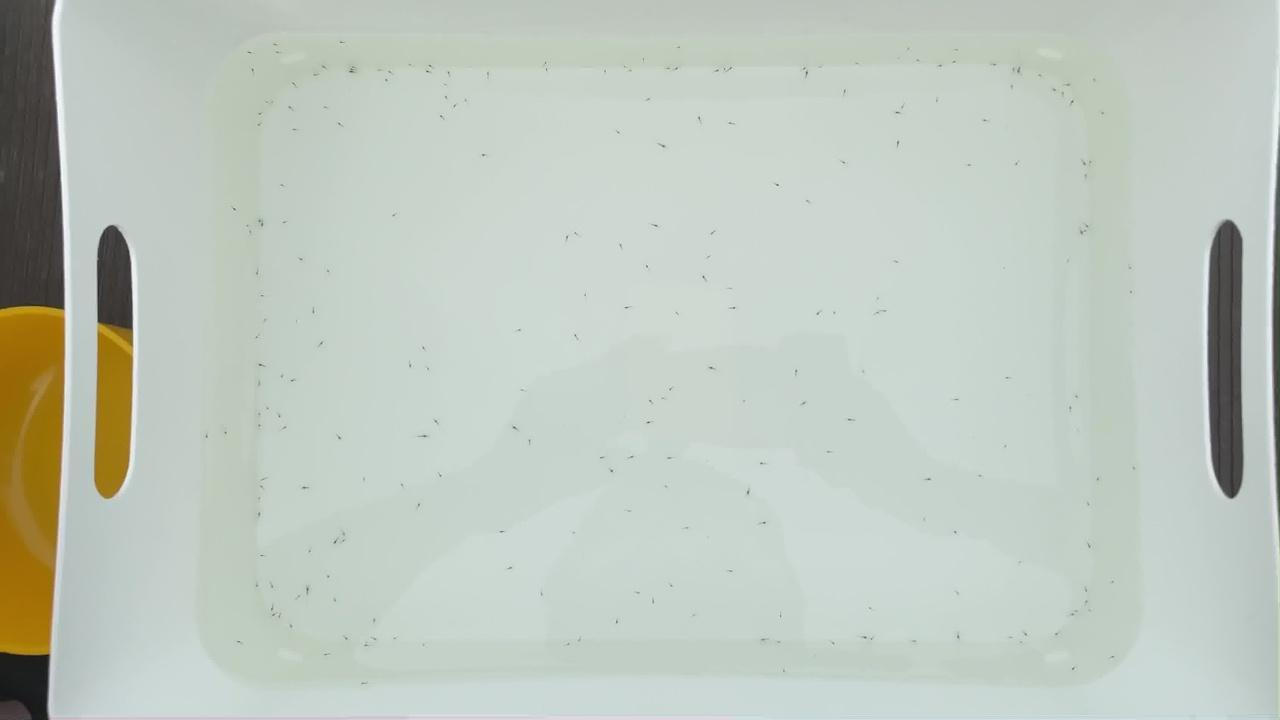shrimp: (1082, 218, 1095, 226), (1125, 295, 1138, 303), (1063, 406, 1076, 414), (1083, 512, 1096, 520), (1082, 583, 1095, 591), (1079, 594, 1092, 602), (951, 589, 964, 597), (776, 667, 789, 675), (760, 634, 773, 642), (976, 118, 989, 126), (945, 58, 958, 66), (852, 58, 865, 66), (729, 118, 742, 126), (674, 63, 687, 71), (601, 68, 614, 76), (539, 68, 552, 76), (611, 124, 624, 132), (440, 91, 453, 99), (345, 63, 358, 71), (247, 63, 260, 71), (267, 96, 280, 104), (723, 307, 736, 315), (723, 284, 736, 292), (308, 306, 321, 314), (333, 434, 346, 442), (268, 611, 281, 619), (302, 584, 315, 592), (325, 595, 338, 603), (371, 633, 384, 641), (385, 628, 398, 636), (435, 473, 448, 481), (430, 417, 443, 425), (537, 589, 550, 597), (665, 584, 678, 592), (605, 467, 618, 475), (824, 451, 837, 459), (842, 417, 855, 425), (871, 295, 884, 303), (1066, 96, 1078, 104), (1005, 63, 1017, 71), (573, 229, 585, 237), (452, 102, 464, 110), (347, 69, 359, 77), (579, 290, 591, 298), (252, 578, 264, 586), (418, 429, 430, 437), (419, 340, 431, 348), (563, 639, 575, 647), (1074, 229, 1087, 236), (1126, 268, 1139, 275), (1128, 467, 1141, 474), (1082, 542, 1095, 549), (1084, 604, 1097, 611), (1106, 579, 1119, 586), (1073, 608, 1086, 615), (1067, 612, 1080, 619), (1105, 655, 1118, 662), (1020, 629, 1033, 636), (1013, 561, 1026, 568), (952, 631, 965, 638), (866, 633, 879, 640), (858, 635, 871, 642), (826, 642, 839, 649), (770, 642, 783, 649), (775, 613, 788, 620), (866, 603, 879, 610), (920, 517, 933, 524), (920, 477, 933, 484), (1001, 439, 1014, 446), (950, 396, 963, 403), (1084, 159, 1097, 166), (1079, 153, 1092, 160), (1082, 146, 1095, 153), (1096, 108, 1109, 115), (1091, 78, 1104, 85), (1061, 78, 1074, 85), (1057, 90, 1070, 97), (1046, 83, 1059, 90), (1034, 70, 1047, 77), (1015, 68, 1028, 75), (1006, 78, 1019, 85), (987, 60, 1000, 67), (960, 160, 973, 167), (1013, 159, 1026, 166), (892, 139, 905, 146), (897, 101, 910, 108), (938, 60, 951, 67), (950, 48, 963, 55), (909, 57, 922, 64), (901, 46, 914, 53), (838, 90, 851, 97), (836, 154, 849, 161), (812, 63, 825, 70), (802, 71, 815, 78), (798, 63, 811, 70), (772, 176, 785, 183), (801, 197, 814, 204), (691, 115, 704, 122), (708, 67, 721, 74), (715, 64, 728, 71), (723, 64, 736, 71), (661, 68, 674, 75), (651, 46, 664, 53), (637, 57, 650, 64), (625, 63, 638, 70), (481, 70, 494, 77), (638, 93, 651, 100), (654, 138, 667, 145), (649, 218, 662, 225), (616, 242, 629, 249), (560, 236, 573, 243), (462, 97, 475, 104), (436, 112, 449, 119), (443, 71, 456, 78), (425, 63, 438, 70), (424, 71, 437, 78), (404, 60, 417, 67), (385, 71, 398, 78), (374, 68, 387, 75), (337, 39, 350, 46), (317, 64, 330, 71), (305, 73, 318, 80), (273, 47, 286, 54), (268, 40, 281, 47), (245, 49, 258, 56), (293, 40, 306, 47), (288, 78, 301, 85), (286, 104, 299, 111), (255, 109, 268, 116), (253, 121, 266, 128), (287, 126, 300, 133), (339, 124, 352, 131), (321, 105, 334, 112), (701, 254, 714, 261), (642, 263, 655, 270), (621, 301, 634, 308), (671, 312, 684, 319), (568, 333, 581, 340), (387, 214, 400, 221), (275, 181, 288, 188), (258, 221, 271, 228), (251, 214, 264, 221), (244, 229, 257, 236), (238, 221, 251, 228), (277, 221, 290, 228), (255, 297, 268, 304), (259, 316, 272, 323), (293, 256, 306, 263), (316, 337, 329, 344), (290, 377, 303, 384), (275, 374, 288, 381), (249, 381, 262, 388), (262, 402, 275, 409), (250, 411, 263, 418), (278, 423, 291, 430), (217, 428, 230, 435), (199, 435, 212, 442), (258, 475, 271, 482), (258, 487, 271, 494), (253, 497, 266, 504), (253, 509, 266, 516), (297, 487, 310, 494), (339, 539, 352, 546), (303, 549, 316, 556), (255, 552, 268, 559), (267, 582, 280, 589), (228, 642, 241, 649), (292, 589, 305, 596), (321, 651, 334, 658), (361, 642, 374, 649), (368, 613, 381, 620), (416, 642, 429, 649), (413, 504, 426, 511), (400, 476, 413, 483), (422, 365, 435, 372), (406, 358, 419, 365), (516, 391, 529, 398), (511, 425, 524, 432), (496, 528, 509, 535), (503, 563, 516, 570), (574, 636, 587, 643), (610, 615, 623, 622), (632, 588, 645, 595), (646, 598, 659, 605), (723, 570, 736, 577), (678, 524, 691, 531), (620, 509, 633, 516), (596, 456, 609, 463), (627, 453, 640, 460), (667, 453, 680, 460), (662, 396, 675, 403), (665, 386, 678, 393), (738, 392, 751, 399), (742, 488, 755, 495), (798, 395, 811, 402), (813, 312, 826, 319), (872, 308, 885, 315), (882, 309, 895, 316), (894, 256, 907, 263), (859, 366, 872, 373), (1072, 392, 1084, 399), (1094, 475, 1106, 482), (1083, 500, 1095, 507), (1067, 666, 1079, 673), (1050, 633, 1062, 640), (1017, 639, 1029, 646), (1005, 631, 1017, 638), (911, 638, 923, 645), (950, 531, 962, 538), (973, 475, 985, 482), (1005, 375, 1017, 382), (1077, 173, 1089, 180), (1000, 160, 1012, 167), (889, 110, 901, 117), (933, 96, 945, 103), (895, 55, 907, 62), (673, 41, 685, 48), (541, 59, 553, 66), (712, 226, 724, 233), (480, 153, 492, 160), (441, 81, 453, 88), (380, 79, 392, 86), (263, 102, 275, 109), (695, 270, 707, 277), (513, 324, 525, 331), (230, 207, 242, 214), (253, 266, 265, 273), (253, 333, 265, 340), (324, 264, 336, 271), (253, 362, 265, 369), (253, 422, 265, 429), (274, 412, 286, 419), (357, 476, 369, 483), (335, 528, 347, 535), (330, 538, 342, 545), (324, 571, 336, 578), (275, 532, 287, 539), (264, 600, 276, 607), (274, 613, 286, 620), (285, 627, 297, 634), (341, 636, 353, 643), (357, 678, 369, 685), (524, 436, 536, 443), (662, 486, 674, 493), (645, 419, 657, 426), (645, 399, 657, 406), (707, 364, 719, 371), (757, 462, 769, 469), (757, 517, 769, 524), (789, 369, 801, 376), (829, 309, 841, 316)
